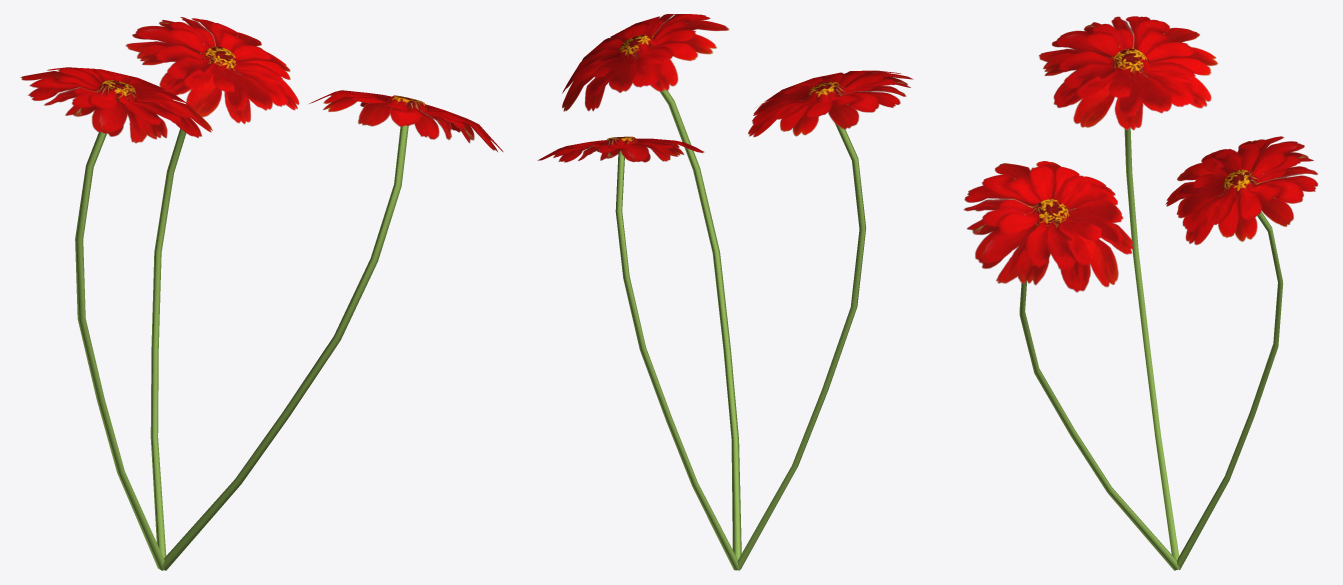
File: foliage_flower_two.glb
3 renders of one model, left to right at view 1: azimuth 30°, elevation 25°; view 2: azimuth 150°, elevation 25°; view 3: azimuth 270°, elevation 25°, orthographic. The views are drawn at different scales.
Visible parts, largest first — view 1: Object_3.118, Object_3.119, Object_2.006, Object_3.117, Object_2.008, Object_2.007; view 2: Object_3.117, Object_3.119, Object_2.006, Object_2.008, Object_2.007, Object_3.118; view 3: Object_3.117, Object_3.119, Object_3.118, Object_2.008, Object_2.006, Object_2.007.
Boxes of the visible parts, x1,y1,x2,y2 form: Object_3.118: (125, 17, 299, 124); Object_3.119: (20, 67, 212, 143); Object_2.006: (160, 125, 408, 570); Object_3.117: (309, 90, 503, 151); Object_2.008: (75, 132, 164, 570); Object_2.007: (150, 128, 186, 558); Object_3.117: (562, 14, 729, 111); Object_3.119: (748, 70, 913, 137); Object_2.006: (659, 90, 741, 559); Object_2.008: (737, 123, 866, 570); Object_2.007: (615, 151, 738, 570); Object_3.118: (537, 136, 704, 162); Object_3.117: (963, 161, 1133, 292); Object_3.119: (1039, 16, 1217, 130); Object_3.118: (1165, 136, 1318, 244); Object_2.008: (1124, 127, 1178, 560); Object_2.006: (1019, 281, 1179, 570); Object_2.007: (1177, 211, 1283, 569).
Bounding box in the file's own units: 1.61 × 1.97 × 1.38.
2 materials, 1 textured.
